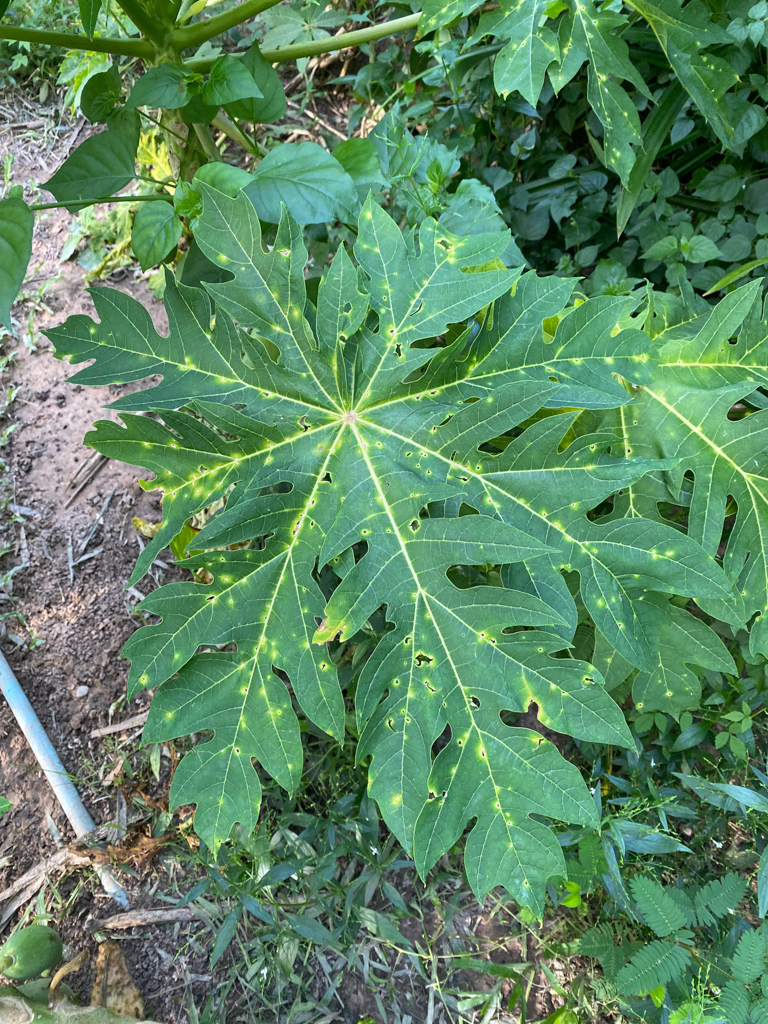Alternaria brassicicola: (348, 432, 439, 590), (225, 566, 294, 771), (466, 617, 597, 722), (138, 343, 283, 409), (503, 486, 604, 574), (133, 432, 246, 510), (278, 439, 347, 549), (385, 631, 449, 745), (457, 731, 523, 832), (651, 386, 726, 460), (366, 238, 410, 363), (538, 344, 656, 379), (592, 65, 629, 174), (502, 2, 561, 66), (670, 344, 757, 385), (194, 555, 245, 618), (395, 371, 457, 416), (299, 604, 333, 683), (590, 583, 640, 636), (263, 283, 302, 340), (610, 415, 653, 461), (430, 228, 466, 272), (637, 538, 684, 570), (570, 2, 602, 44), (385, 785, 408, 813), (213, 244, 236, 267), (276, 240, 295, 262)
